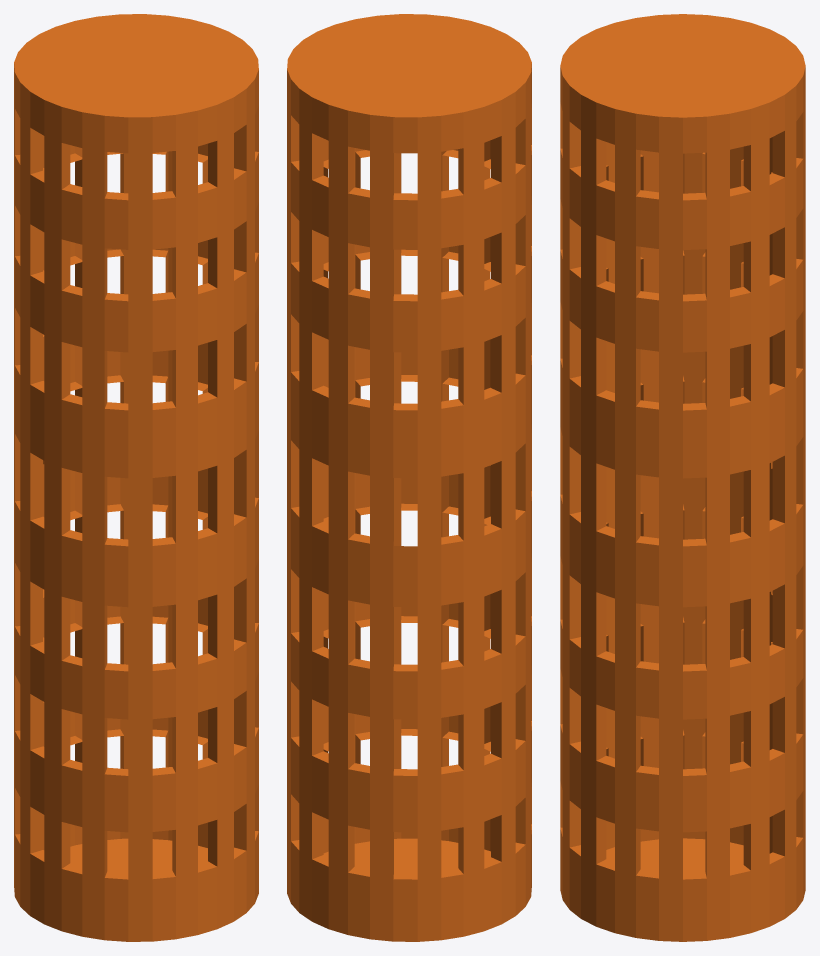
The model's file is cylinder.001_lev1_lev3.glb.
3 views of the same model, side by side, from view 1: azimuth 30°, elevation 25°; view 2: azimuth 150°, elevation 25°; view 3: azimuth 270°, elevation 25° (orthographic).
Visible parts, largest first — view 1: cylinder.001_lev1_lev3; view 2: cylinder.001_lev1_lev3; view 3: cylinder.001_lev1_lev3.
Part boxes in pixels (<box>): cylinder.001_lev1_lev3: <box>14,14,258,941</box>; cylinder.001_lev1_lev3: <box>287,14,531,941</box>; cylinder.001_lev1_lev3: <box>560,14,805,941</box>.
Size of the model in its own units: 9.52 by 35.3 by 9.52.
